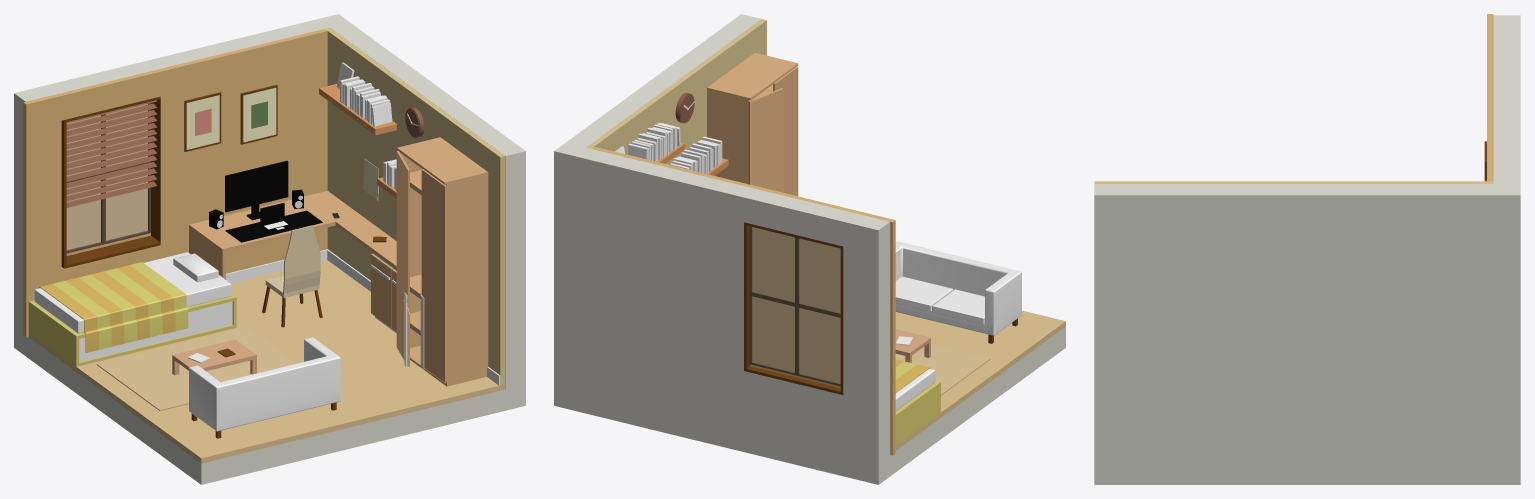
Rendered from Chapter_1.glb.
The picture shows the model from 3 angles, left to right: view 1: azimuth 30°, elevation 25°; view 2: azimuth 150°, elevation 25°; view 3: azimuth 270°, elevation 25°; orthographic projection. The views are drawn at different scales.
Parts seen in each view (by area): view 1: models; view 2: models; view 3: models.
Boxes of the visible parts, bbox=[...] form: models: bbox=[14, 14, 525, 484]; models: bbox=[554, 14, 1065, 484]; models: bbox=[1094, 14, 1520, 484].
Size of the model in its own units: 32.18 by 23.95 by 31.94.
